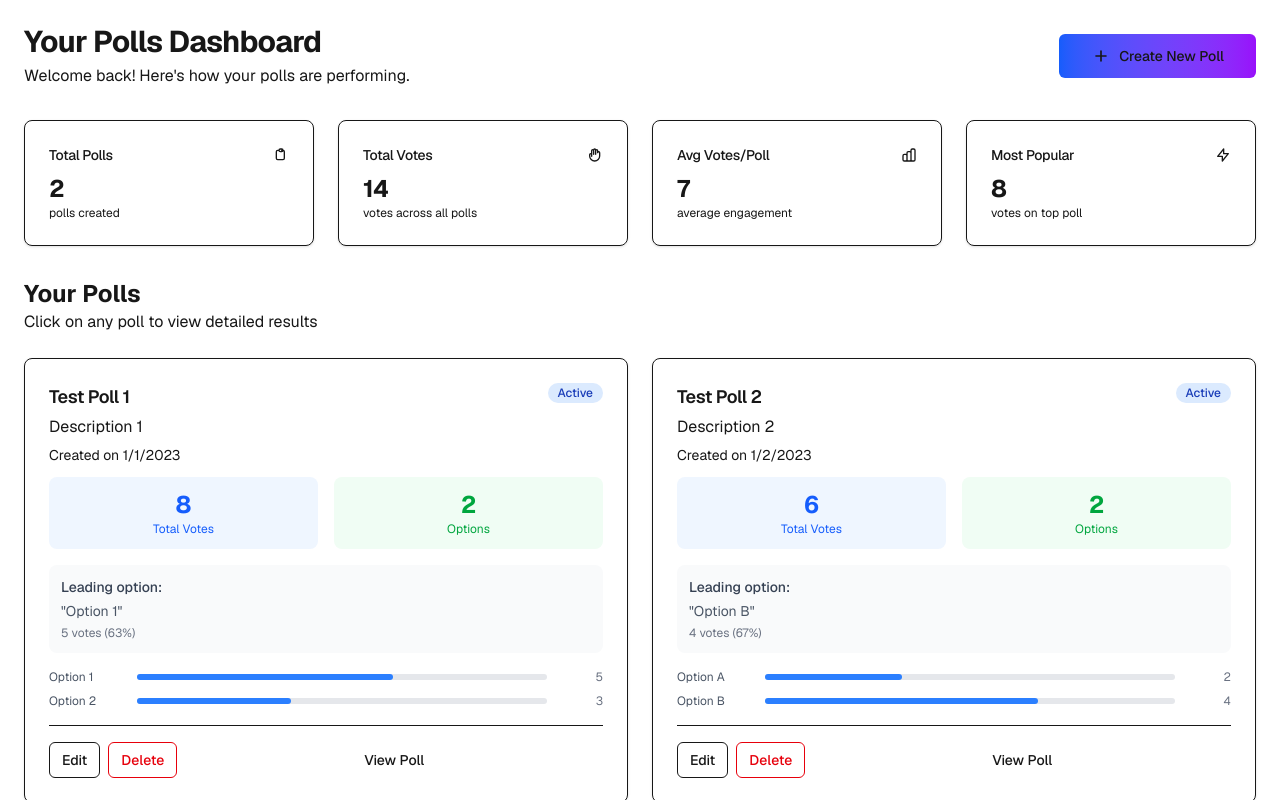
Test case: PollsDashboard Component › handles error when deleting poll fails
Expected: the heading "Test Poll 1" is shown, [49,385,130,408]
Find and click delete button for the first poll
Click the button "Delete" below "Option 2".
click(143, 760)  # box [108,742,177,778]
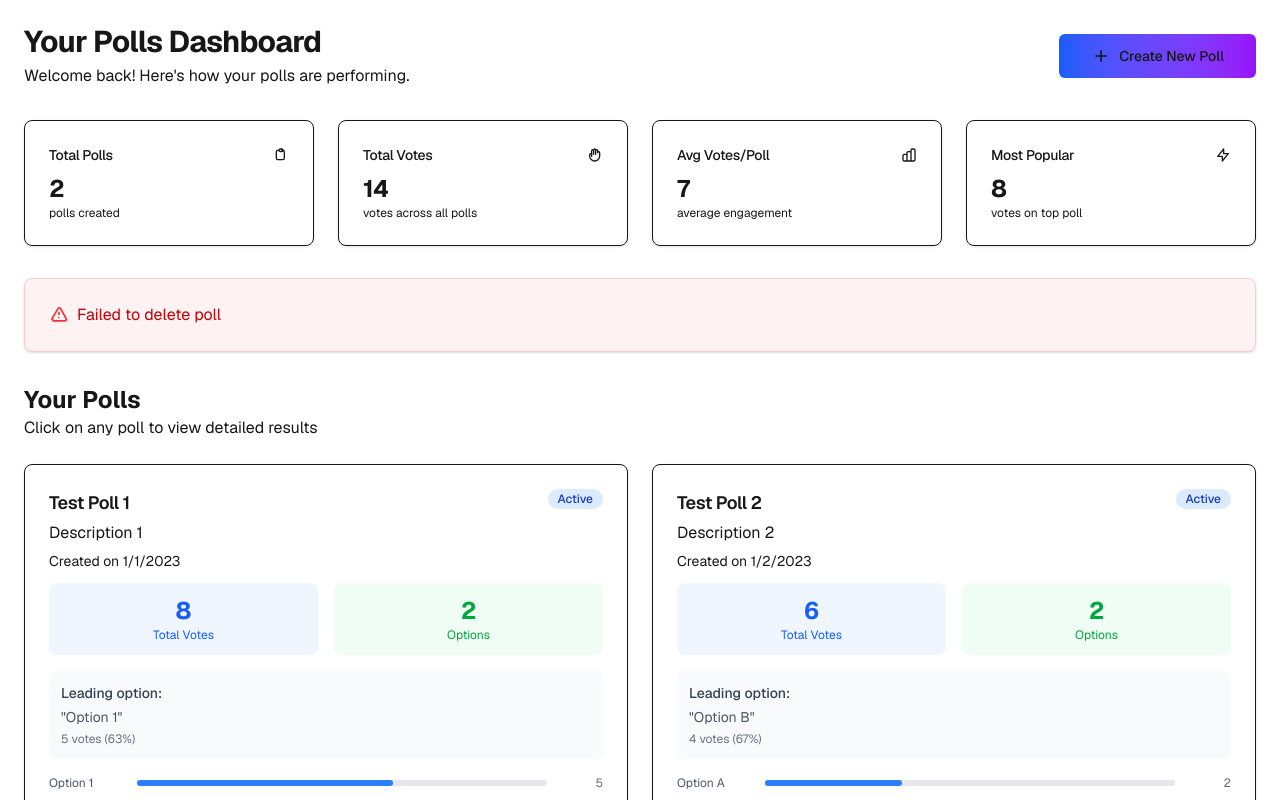
Expected: the text "Failed to delete poll" is shown, [77,303,221,327]
